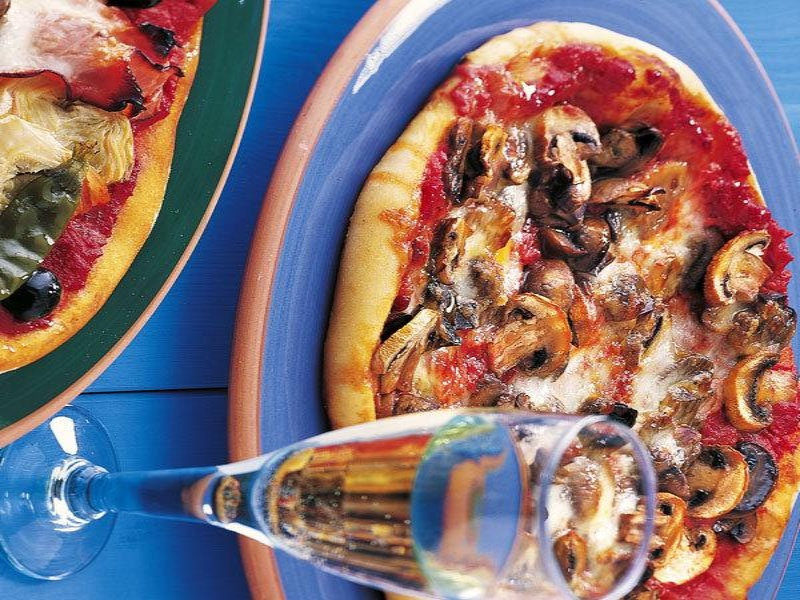champignon: (524, 101, 609, 215), (483, 286, 576, 385), (678, 438, 752, 527), (700, 225, 776, 310), (719, 344, 779, 440)
olive: (3, 263, 73, 328)
